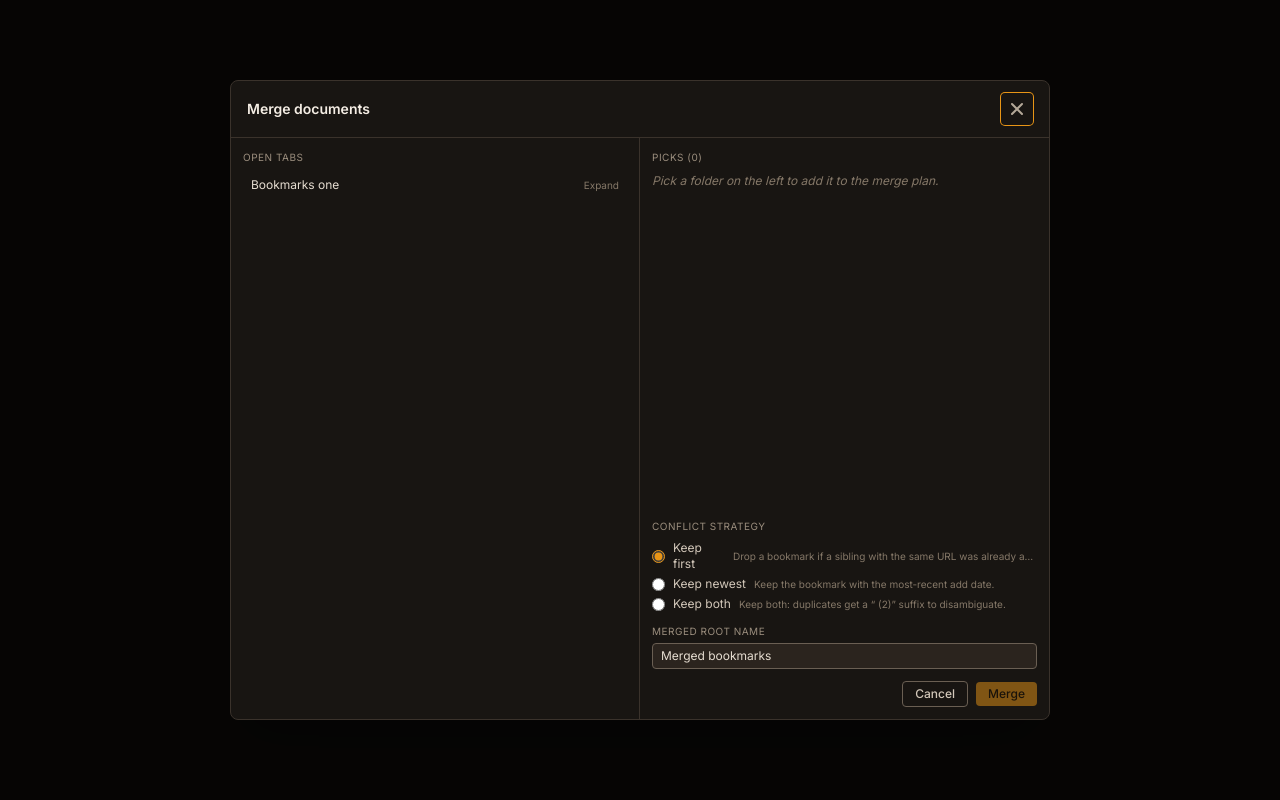
Test: MergePickerModal › updates the conflict-strategy state when a radio is selected
Check: the radio button labelled "Keep first" is checked, box [652,550,665,562]
Click the radio button labelled "Keep both" at [658, 604], box [652,598,665,610]
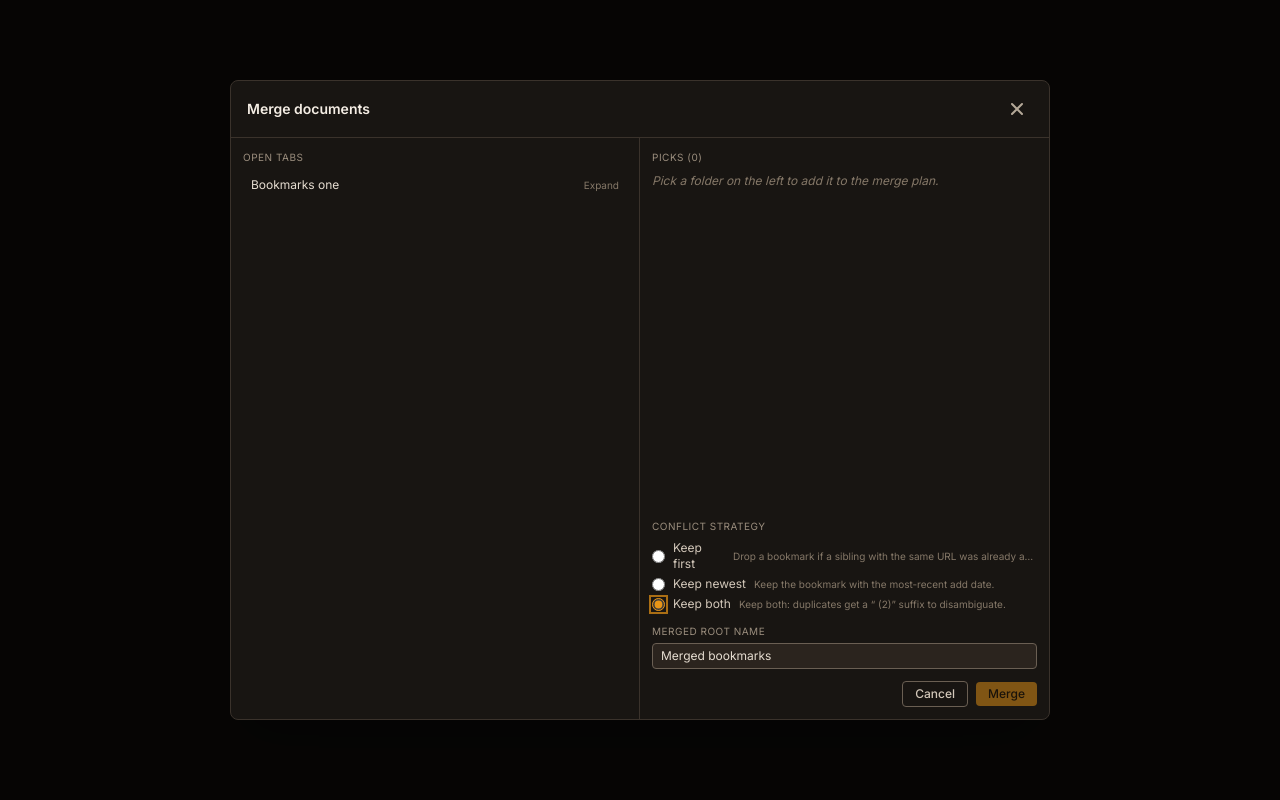
Check: the radio button labelled "Keep both" is checked, box [652,598,665,610]
Check: the radio button labelled "Keep first" is not checked, box [652,550,665,562]
